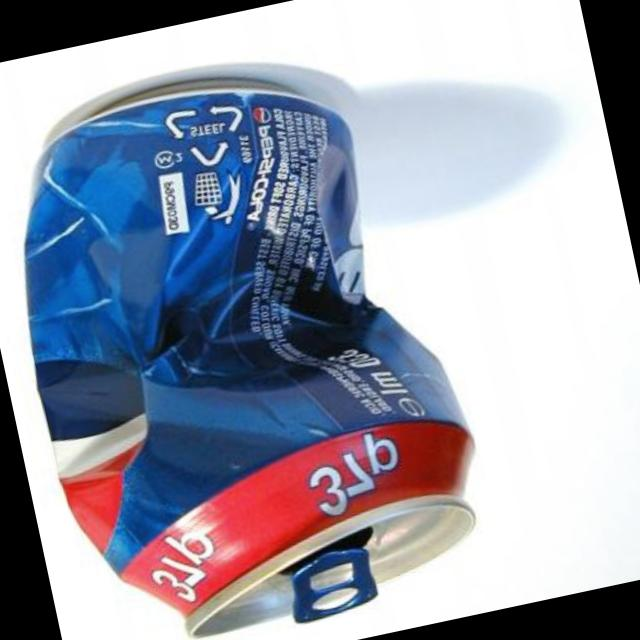metal: (22, 84, 470, 638)
